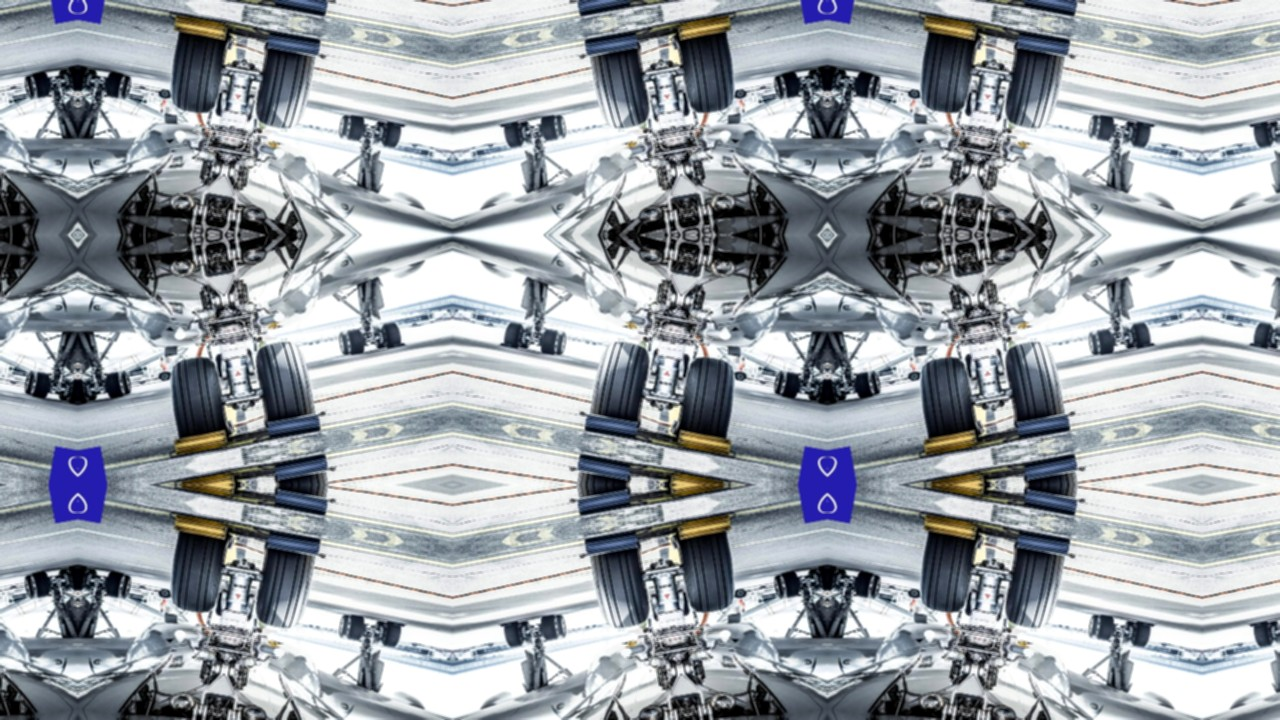chock: (265, 29, 324, 59), (581, 29, 640, 59), (1015, 29, 1074, 59), (265, 411, 324, 441), (581, 411, 640, 441), (1015, 411, 1074, 441), (265, 529, 324, 559), (581, 529, 640, 559), (1015, 529, 1074, 559), (273, 453, 332, 482), (573, 453, 632, 482), (1023, 453, 1082, 482), (273, 488, 332, 517), (573, 488, 632, 517), (1023, 488, 1082, 517), (172, 13, 230, 41), (675, 13, 733, 41), (922, 13, 980, 41), (172, 429, 230, 457), (675, 429, 733, 457), (922, 429, 980, 457), (172, 513, 230, 541), (675, 513, 733, 541), (922, 513, 980, 541), (273, 0, 332, 17), (573, 0, 632, 17), (1023, 0, 1082, 17), (180, 470, 238, 485), (667, 470, 725, 485), (930, 470, 988, 485), (180, 485, 238, 500), (667, 485, 725, 500), (930, 485, 988, 500)
wheel: (164, 23, 231, 115), (674, 23, 741, 115), (914, 23, 981, 115), (164, 355, 231, 447), (674, 355, 741, 447), (914, 355, 981, 447), (164, 523, 231, 615), (674, 523, 741, 615), (914, 523, 981, 615), (250, 41, 315, 131), (590, 41, 655, 131), (1000, 41, 1065, 131), (250, 339, 315, 429), (590, 339, 655, 429), (1000, 339, 1065, 429), (250, 541, 315, 631), (590, 541, 655, 631), (1000, 541, 1065, 631), (213, 89, 255, 123), (650, 89, 692, 123), (963, 89, 1005, 123), (213, 347, 255, 381), (650, 347, 692, 381), (963, 347, 1005, 381), (213, 589, 255, 623), (650, 589, 692, 623), (963, 589, 1005, 623), (23, 71, 52, 101), (103, 71, 132, 101), (773, 71, 802, 101), (853, 71, 882, 101), (23, 369, 52, 399), (103, 369, 132, 399), (773, 369, 802, 399), (853, 369, 882, 399), (23, 571, 52, 601), (103, 571, 132, 601), (773, 571, 802, 601), (853, 571, 882, 601), (375, 120, 402, 150), (503, 120, 530, 150), (1125, 120, 1152, 150), (1253, 120, 1280, 150), (375, 320, 402, 350), (503, 320, 530, 350), (1125, 320, 1152, 350), (1253, 320, 1280, 350), (375, 620, 402, 650), (503, 620, 530, 650), (1125, 620, 1152, 650), (1253, 620, 1280, 650), (344, 115, 366, 143), (539, 115, 561, 143), (1094, 115, 1116, 143), (344, 327, 366, 355), (539, 327, 561, 355), (1094, 327, 1116, 355), (344, 615, 366, 643), (539, 615, 561, 643), (1094, 615, 1116, 643), (56, 68, 75, 93), (80, 68, 99, 93), (806, 68, 825, 93), (830, 68, 849, 93), (56, 377, 75, 402), (80, 377, 99, 402), (806, 377, 825, 402), (830, 377, 849, 402), (56, 568, 75, 593), (80, 568, 99, 593), (806, 568, 825, 593), (830, 568, 849, 593), (370, 120, 387, 144), (518, 120, 535, 144), (1120, 120, 1137, 144), (370, 326, 387, 350), (518, 326, 535, 350), (1120, 326, 1137, 350), (370, 620, 387, 644), (518, 620, 535, 644), (1120, 620, 1137, 644), (336, 115, 352, 140), (553, 115, 569, 140), (1086, 115, 1102, 140), (336, 330, 352, 355), (553, 330, 569, 355), (1086, 330, 1102, 355), (336, 615, 352, 640), (553, 615, 569, 640), (1086, 615, 1102, 640), (65, 64, 78, 93), (815, 64, 828, 93), (827, 64, 840, 93), (65, 377, 78, 406), (815, 377, 828, 406), (827, 377, 840, 406), (65, 564, 78, 593), (815, 564, 828, 593), (827, 564, 840, 593), (214, 90, 227, 117), (678, 90, 691, 117), (964, 90, 977, 117), (214, 353, 227, 380), (678, 353, 691, 380), (964, 353, 977, 380), (214, 590, 227, 617), (678, 590, 691, 617), (964, 590, 977, 617), (78, 64, 90, 93), (78, 377, 90, 406), (78, 564, 90, 593), (23, 75, 36, 100), (119, 75, 132, 100), (773, 75, 786, 100), (869, 75, 882, 100), (23, 370, 36, 395), (119, 370, 132, 395), (773, 370, 786, 395), (869, 370, 882, 395), (23, 575, 36, 600), (119, 575, 132, 600), (773, 575, 786, 600), (869, 575, 882, 600), (1268, 120, 1280, 144), (1268, 326, 1280, 350), (1268, 620, 1280, 644), (245, 97, 256, 122), (649, 97, 660, 122), (995, 97, 1006, 122), (245, 348, 256, 373), (649, 348, 660, 373), (995, 348, 1006, 373), (245, 597, 256, 622), (649, 597, 660, 622), (995, 597, 1006, 622), (158, 88, 172, 100), (733, 88, 747, 100), (908, 88, 922, 100), (158, 370, 172, 382), (733, 370, 747, 382), (908, 370, 922, 382), (158, 588, 172, 600), (733, 588, 747, 600), (908, 588, 922, 600), (10, 86, 17, 89), (138, 86, 145, 89), (760, 86, 767, 89), (888, 86, 895, 89), (10, 381, 17, 384), (138, 381, 145, 384), (760, 381, 767, 384), (888, 381, 895, 384), (10, 586, 17, 589), (138, 586, 145, 589), (760, 586, 767, 589), (888, 586, 895, 589)
